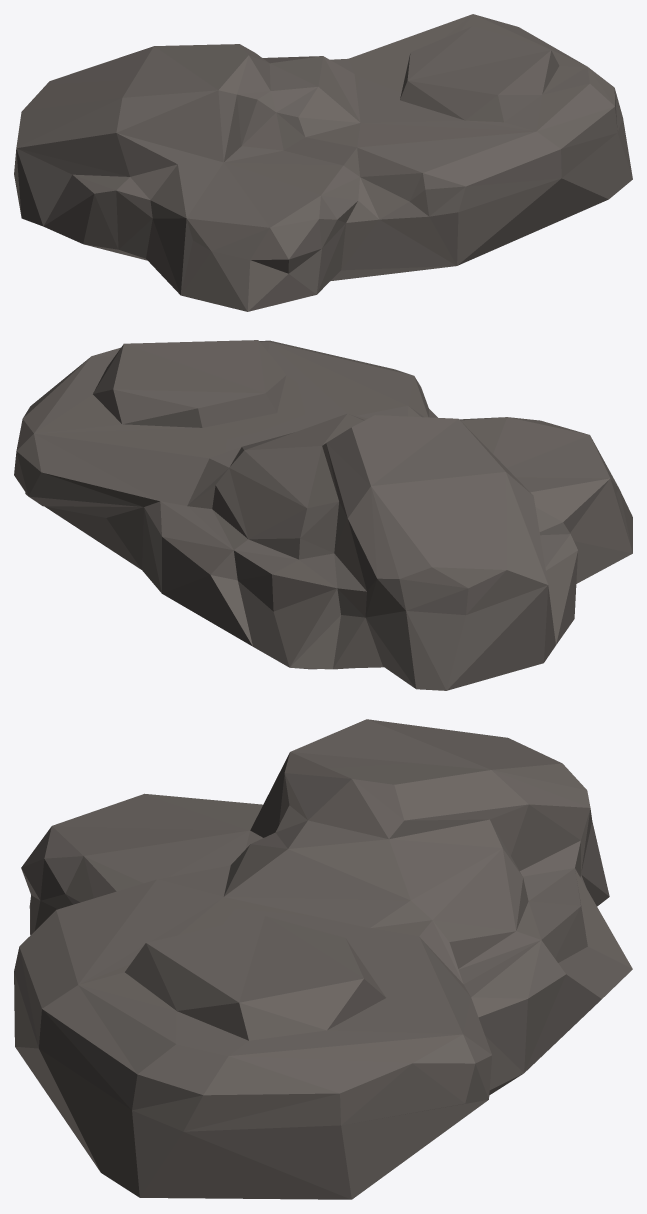
File: rock.fbx
The picture shows the model from 3 angles, top to bottom: view 1: azimuth 30°, elevation 25°; view 2: azimuth 150°, elevation 25°; view 3: azimuth 270°, elevation 25°; orthographic projection. The views are drawn at different scales.
Visible parts, largest first — view 1: SM_Env_RockFlat_05; view 2: SM_Env_RockFlat_05; view 3: SM_Env_RockFlat_05.
Part boxes in pixels (x1,y1,x2,y2): SM_Env_RockFlat_05: (14,14,632,311); SM_Env_RockFlat_05: (14,340,632,690); SM_Env_RockFlat_05: (14,719,632,1199).
Size of the model in its own units: 300 by 98.14 by 223.
Materials: 1 (1 with a texture image).
